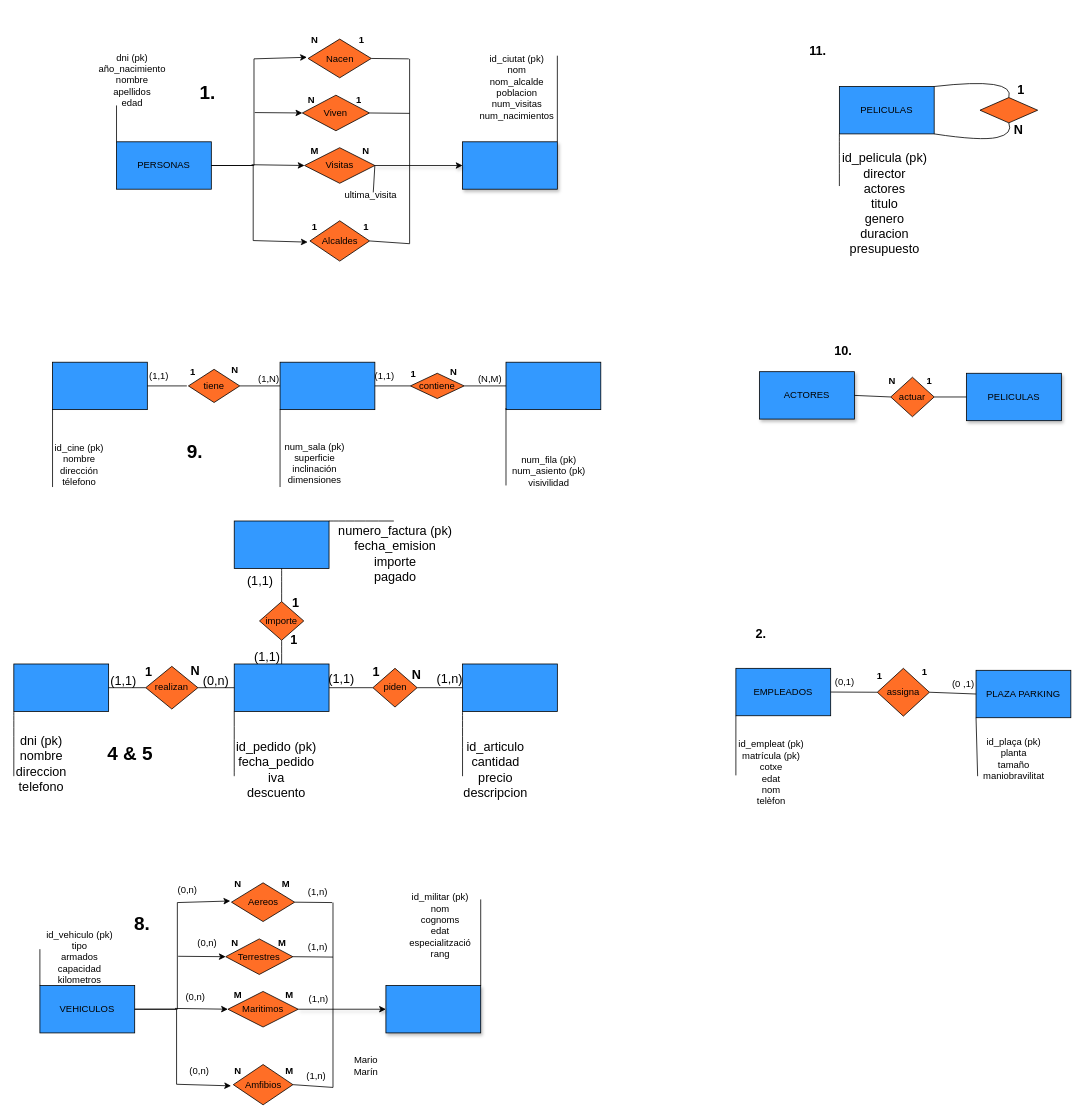
This 1085x1119 diagram has some shape labels left out. Here are the shapes that lost their labels. From the top down, the centre of each, then its label:
At [1008,110]: "remake".
At [510,166]: "CIUDADES".
At [99,385]: "CINES".
At [327,385]: "SALAS".
At [553,385]: "BUTACAS".
At [281,544]: "FACTURAS".
At [61,687]: "CLIENTES".
At [281,687]: "PEDIDOS".
At [509,687]: "ARTICULOS".
At [433,1010]: "Militares".
